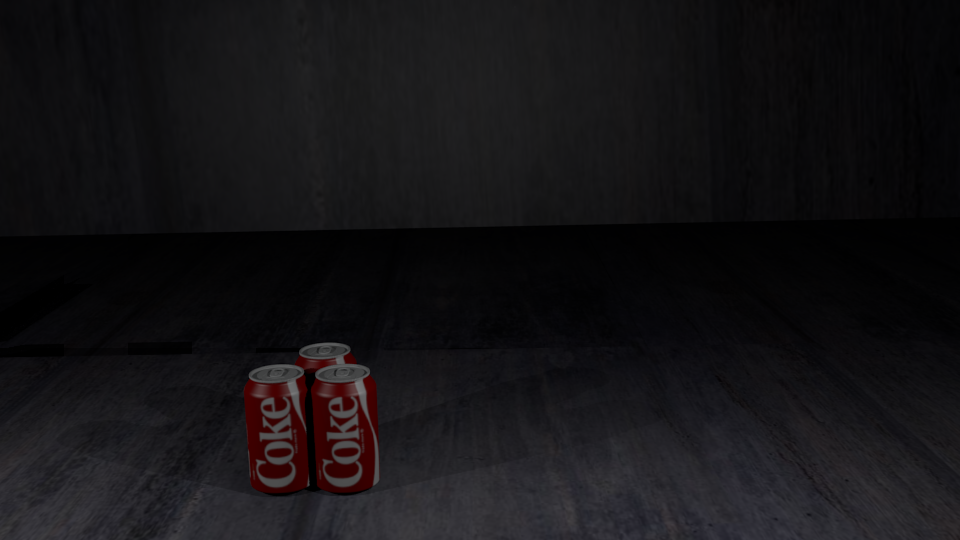cola_can: (244, 365, 312, 490), (310, 364, 378, 488), (295, 343, 355, 461)
